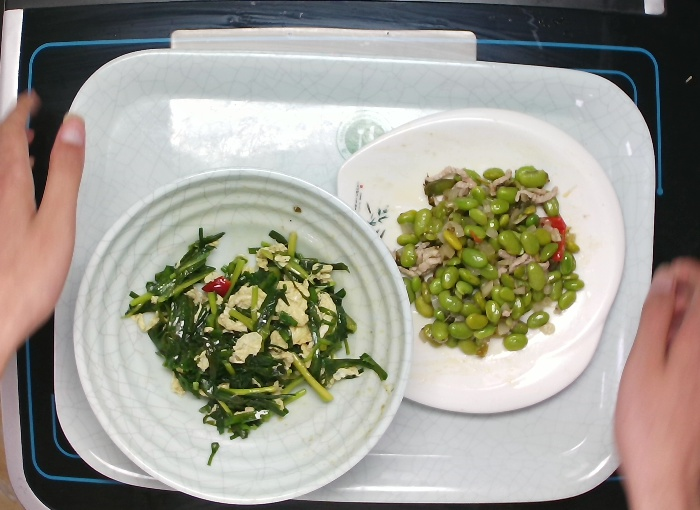JYsf-Da_Tang_Wan: (66, 164, 418, 510)
JYsf-Mian_Pan: (332, 103, 631, 419)
